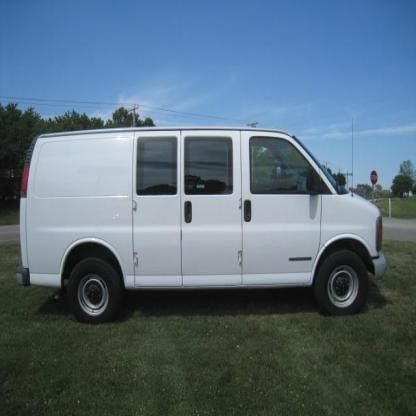Vehicle: (20, 126, 388, 313)
